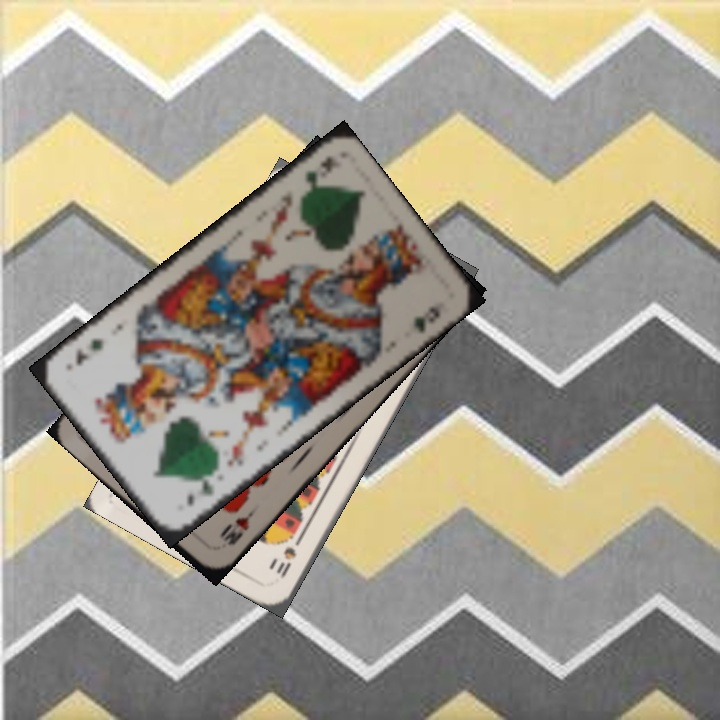GK: (301, 151, 342, 191), (181, 475, 217, 509)
H10: (215, 505, 258, 549)
S10: (272, 531, 306, 581)
